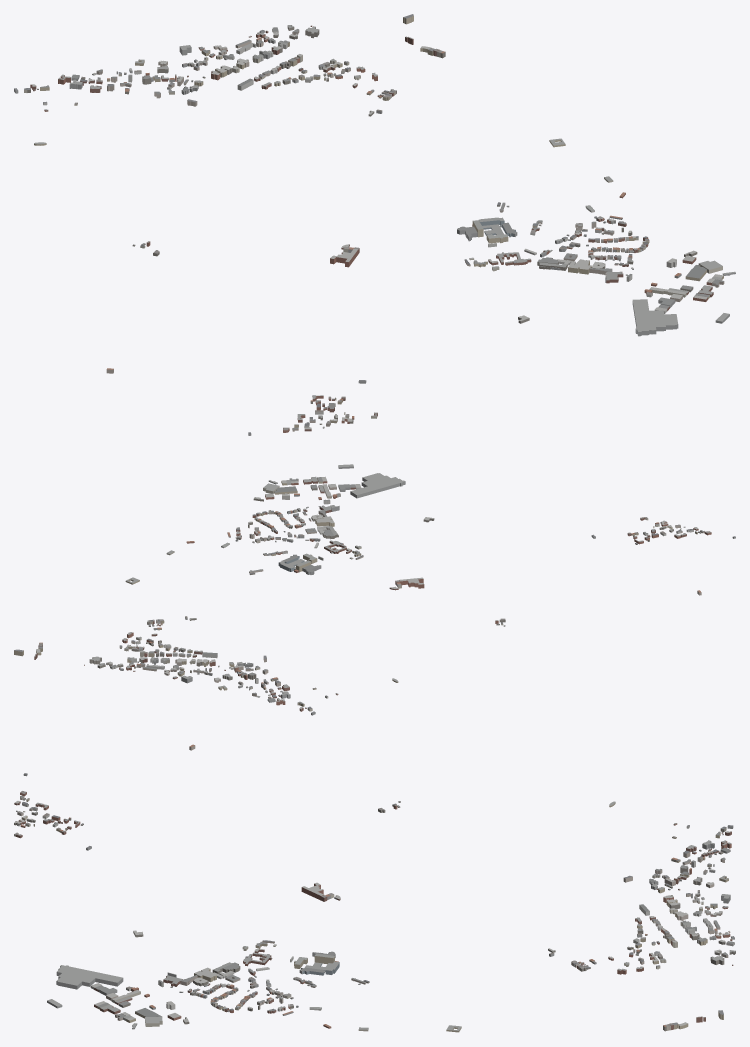
File: buildings_b0_0_1.glb
The picture shows the model from 3 angles, top to bottom: view 1: azimuth 30°, elevation 25°; view 2: azimuth 150°, elevation 25°; view 3: azimuth 270°, elevation 25°; orthographic projection. The views are drawn at different scales.
Parts seen in each view (by area): view 1: t03_05_buildings_b0, t03_04_buildings_b0, t02_07_buildings_b0, t03_07_buildings_b0, t01_04_buildings_b0; view 2: t03_05_buildings_b0, t03_04_buildings_b0, t02_07_buildings_b0, t03_07_buildings_b0, t01_04_buildings_b0, t02_05_buildings_b0; view 3: t03_05_buildings_b0, t03_04_buildings_b0, t02_07_buildings_b0, t03_07_buildings_b0, t01_04_buildings_b0, t02_05_buildings_b0.
Boxes of the visible parts, left/top/right/bottom form: t03_05_buildings_b0: left=457, top=176, right=649, bottom=274; t03_04_buildings_b0: left=589, top=250, right=735, bottom=336; t02_07_buildings_b0: left=71, top=43, right=280, bottom=106; t03_07_buildings_b0: left=235, top=14, right=445, bottom=100; t01_04_buildings_b0: left=283, top=380, right=377, bottom=432; t03_05_buildings_b0: left=166, top=509, right=346, bottom=574; t03_04_buildings_b0: left=253, top=464, right=405, bottom=516; t02_07_buildings_b0: left=146, top=649, right=289, bottom=702; t03_07_buildings_b0: left=14, top=619, right=185, bottom=671; t01_04_buildings_b0: left=591, top=517, right=711, bottom=544; t02_05_buildings_b0: left=346, top=545, right=424, bottom=590; t03_05_buildings_b0: left=192, top=951, right=369, bottom=1031; t03_04_buildings_b0: left=47, top=965, right=197, bottom=1029; t02_07_buildings_b0: left=623, top=845, right=730, bottom=930; t03_07_buildings_b0: left=571, top=920, right=735, bottom=1031; t01_04_buildings_b0: left=14, top=791, right=91, bottom=850; t02_05_buildings_b0: left=242, top=882, right=340, bottom=953.
Bounding box in the file's own units: 1746 × 119 × 2010.
